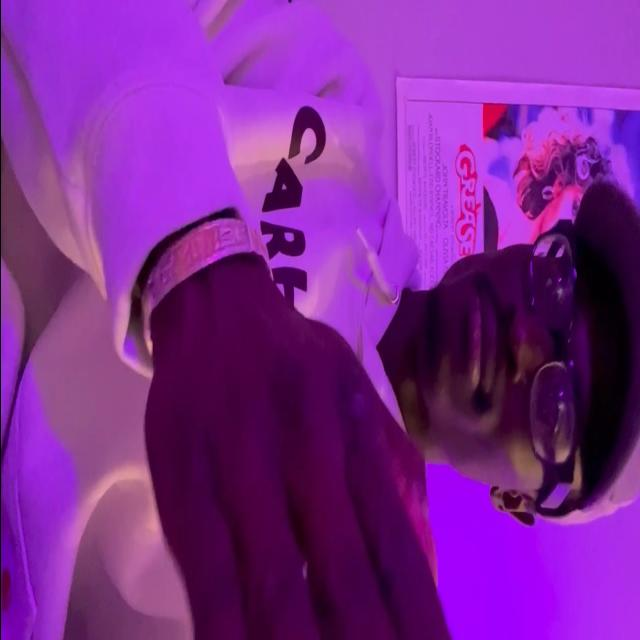Paper: (150, 275, 457, 640)
